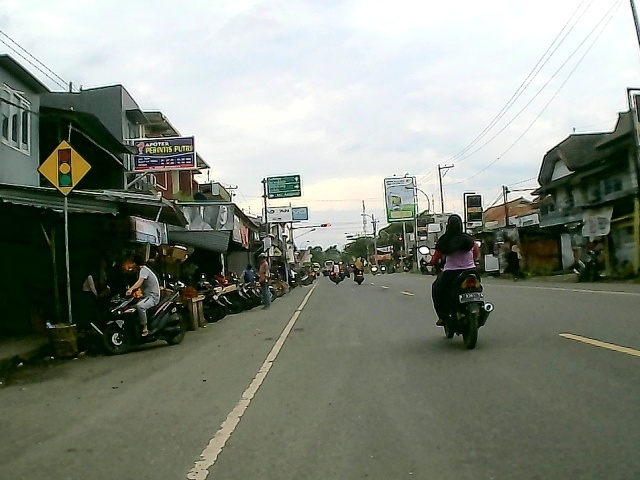Lampu isyarat: (33, 138, 94, 198)
